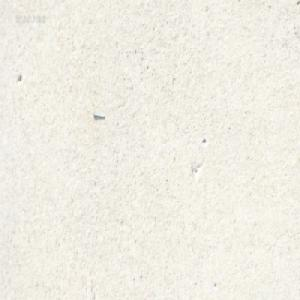Nail: (91, 110, 105, 118)
